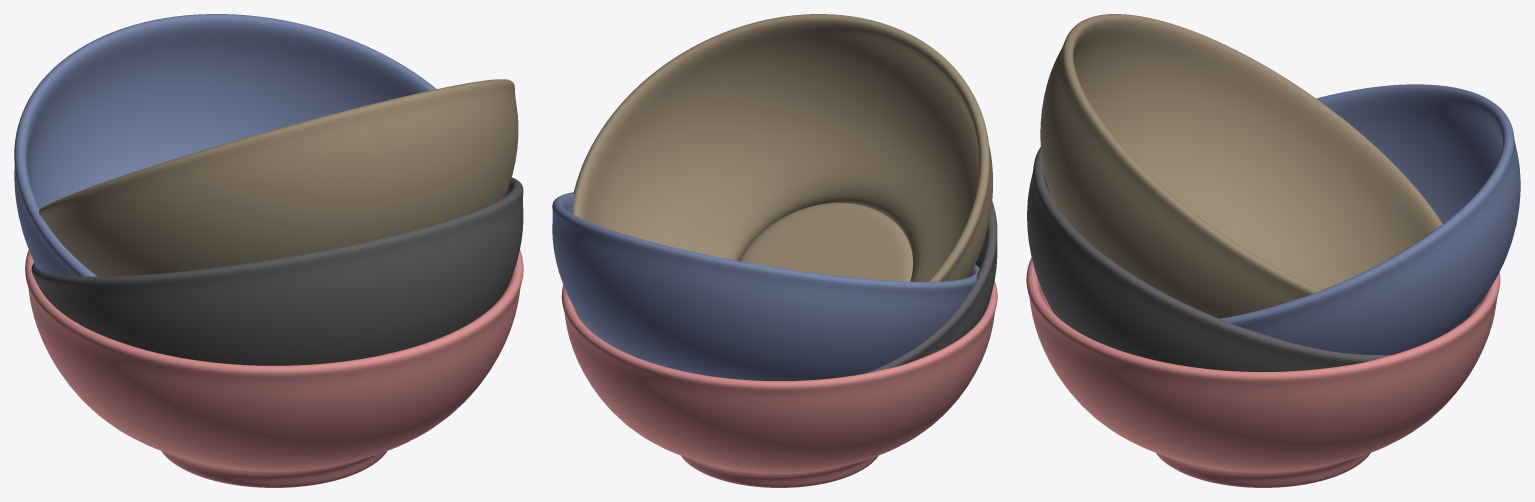
File: single-products-bowl.glb
3 renders of one model, left to right at view 1: azimuth 30°, elevation 25°; view 2: azimuth 150°, elevation 25°; view 3: azimuth 270°, elevation 25°, orthographic. The views are drawn at different scales.
Visible parts, largest first — view 1: Circle.003, Circle.002, Circle, Circle.001; view 2: Circle.003, Circle.002, Circle, Circle.001; view 3: Circle.003, Circle, Circle.002, Circle.001.
Boxes of the visible parts, x1,y1,x2,y2 form: Circle.003: (39, 79, 518, 276); Circle.002: (14, 14, 436, 276); Circle: (25, 250, 523, 487); Circle.001: (31, 177, 523, 365); Circle.003: (572, 14, 992, 281); Circle.002: (552, 192, 979, 380); Circle: (561, 281, 997, 487); Circle.001: (574, 201, 997, 372); Circle.003: (1040, 14, 1442, 318); Circle: (1026, 258, 1500, 487); Circle.002: (1220, 84, 1520, 354); Circle.001: (1027, 147, 1481, 371).
Bounding box in the file's own units: 0.1559 × 0.1419 × 0.1626.
